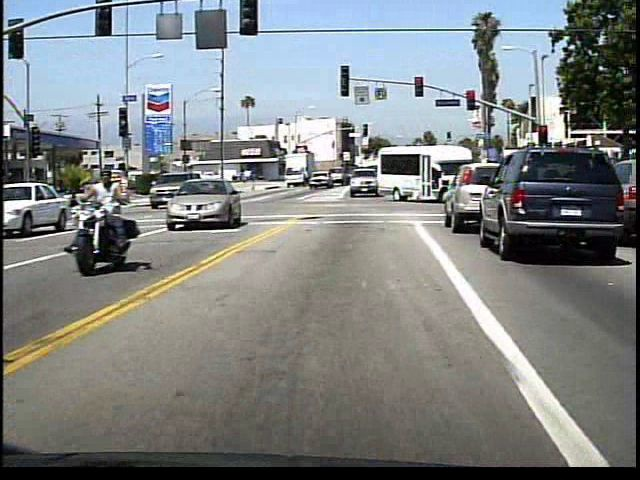person: (78, 161, 141, 272)
